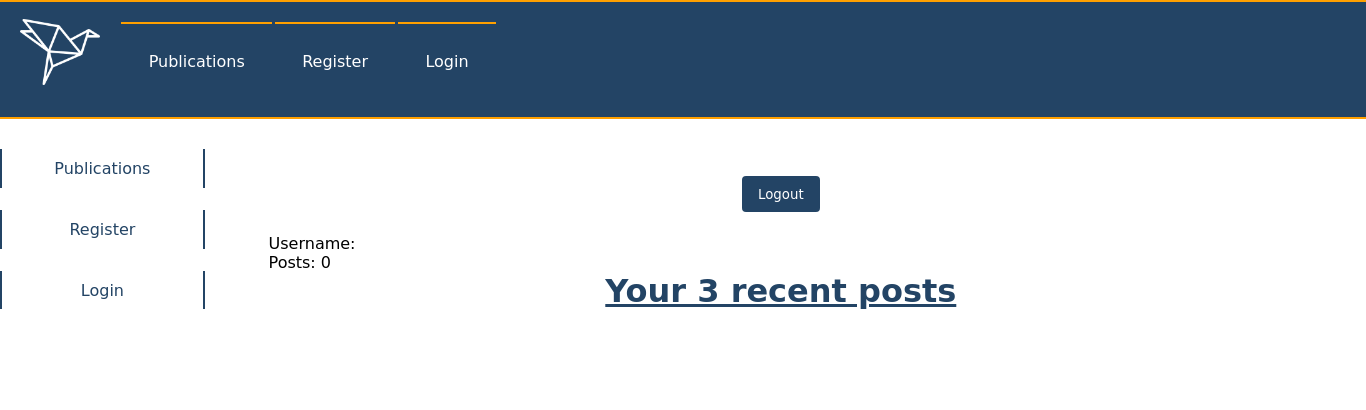
Test: Pages › Profile page and logout
The image size is (1366, 410).
Click the button "Logout" at (781,194), box [740,174,822,214]
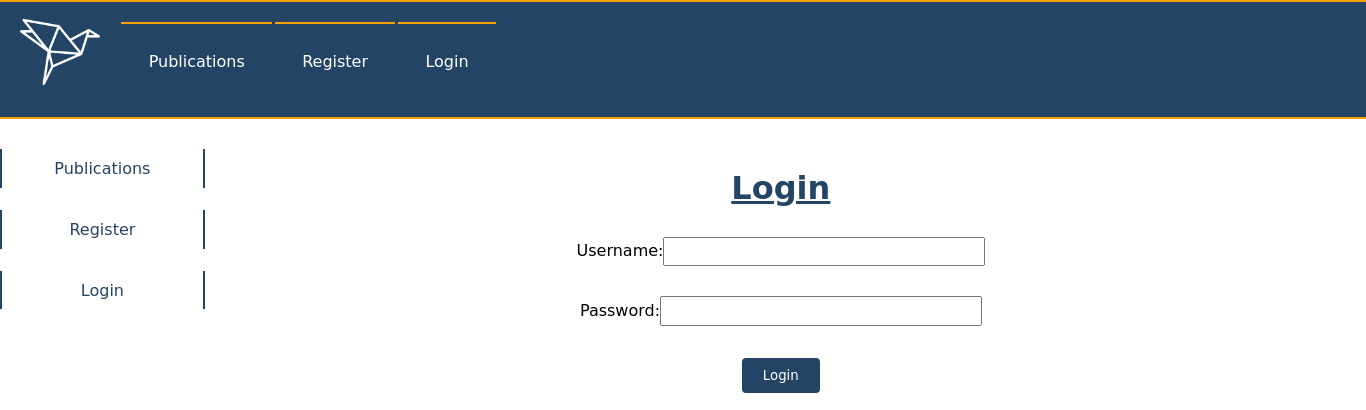
Expected: the heading "Login" is shown, [731,169,830,207]
